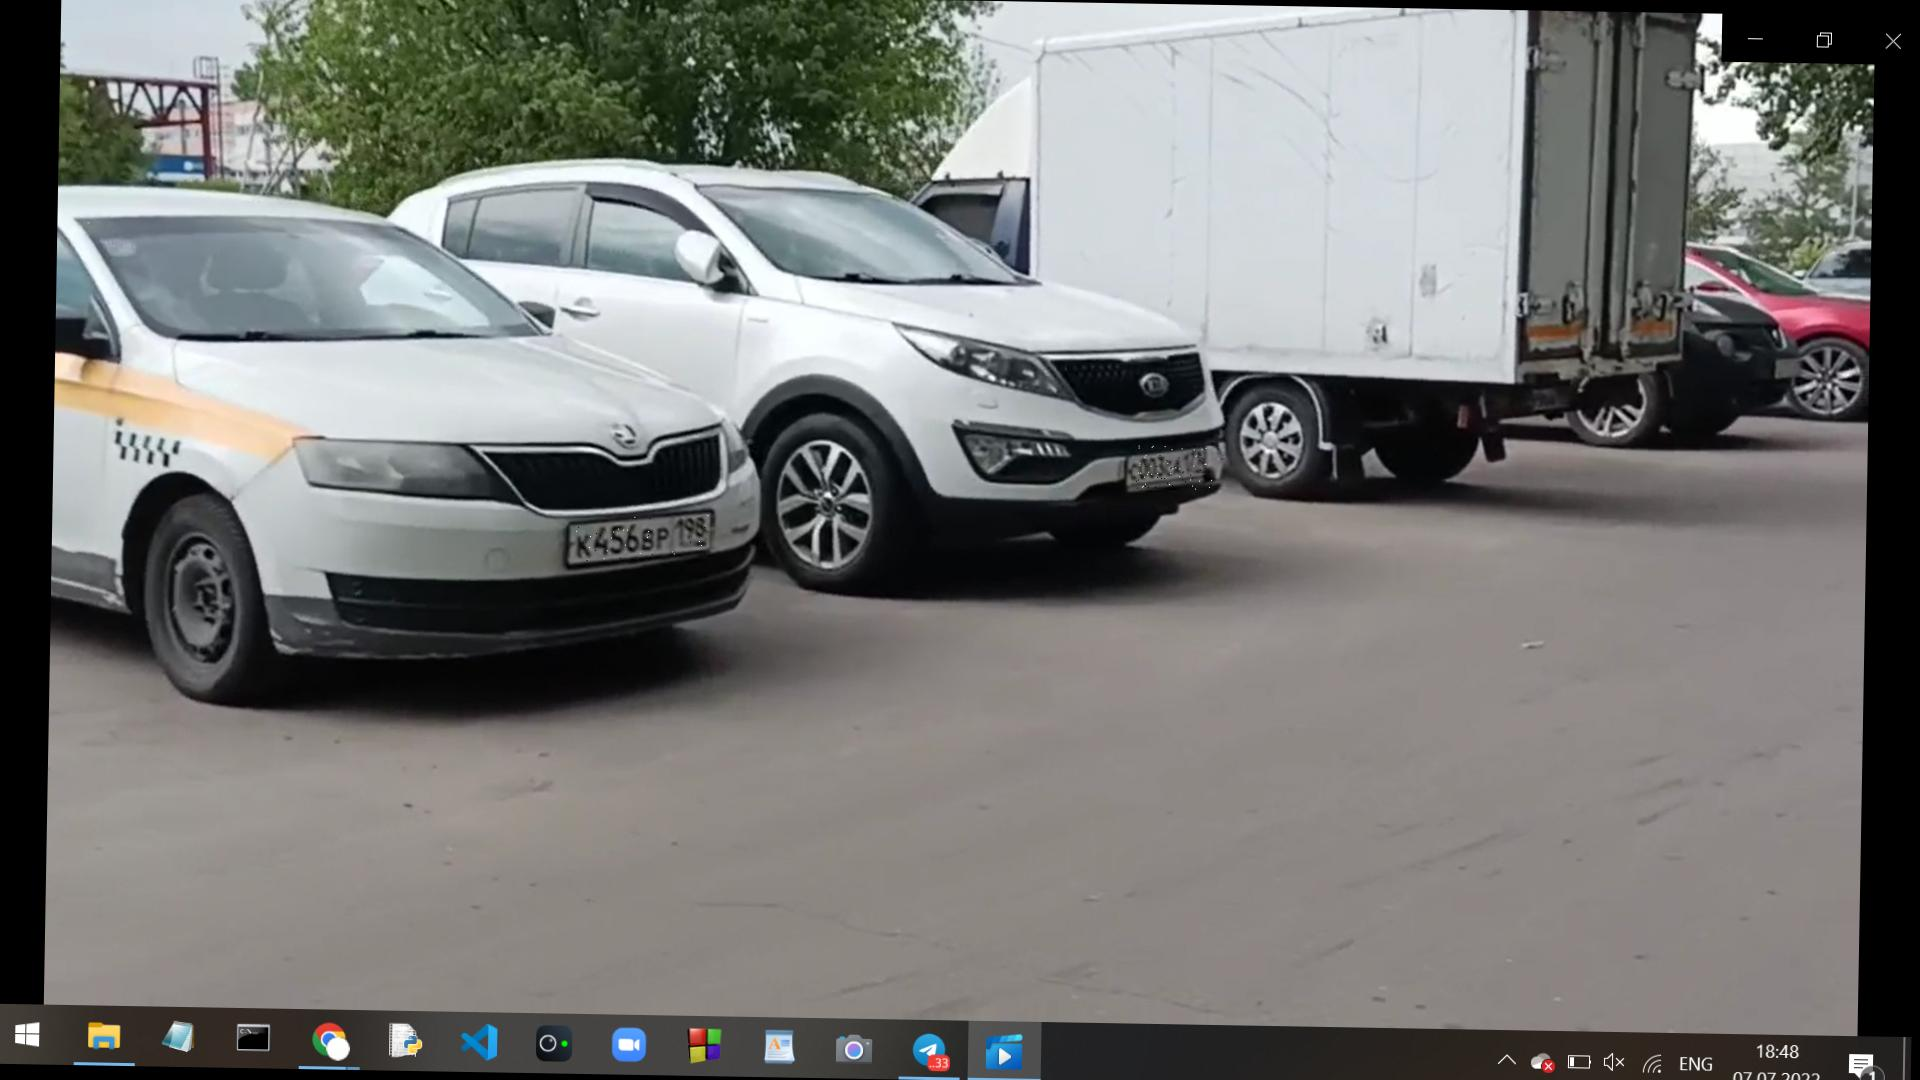plate: (569, 514, 716, 569), (1133, 446, 1214, 491)
